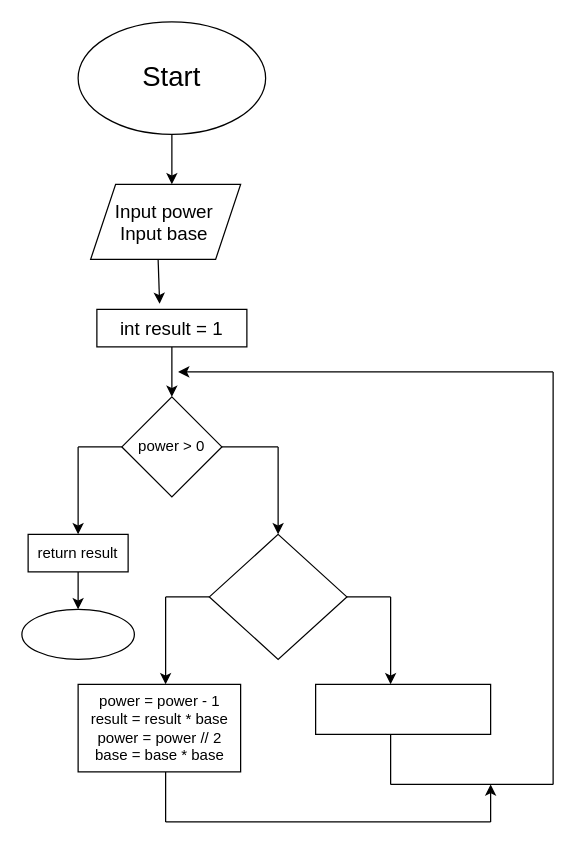
This 585x854 diagram has some shape labels left out. Each missing label, with the centre of its shape:
Koniec: (77,633)
power % 2 ==0: (277,596)
power = power // 2 base = base * base: (402,708)
